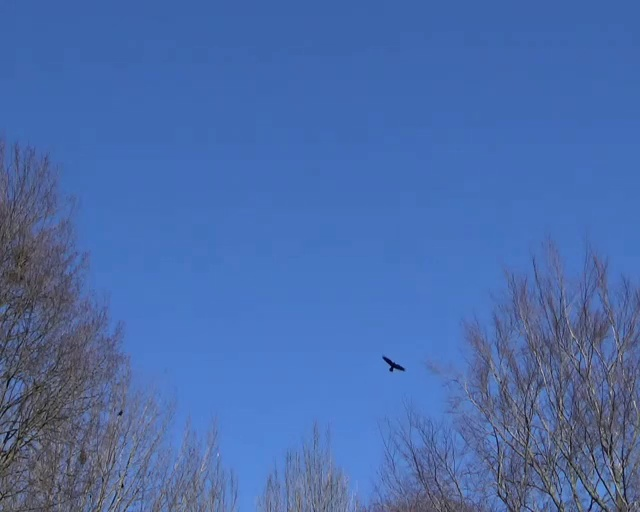BIRD: (382, 355, 405, 372)
